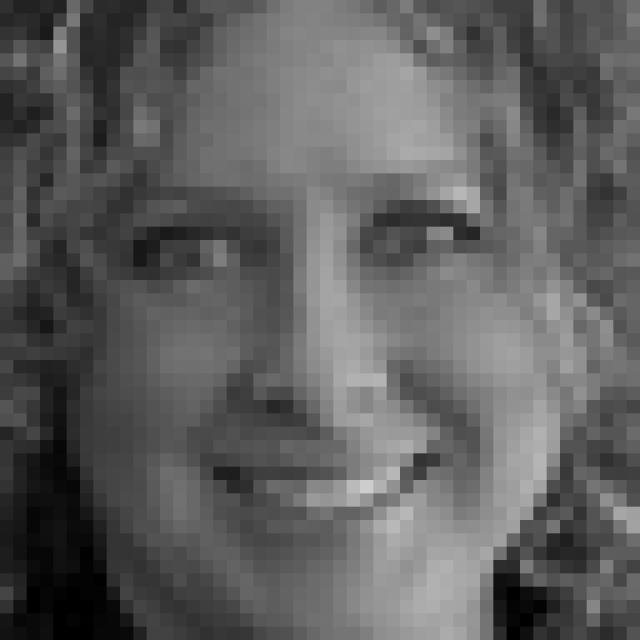happy: (109, 154, 499, 560)
